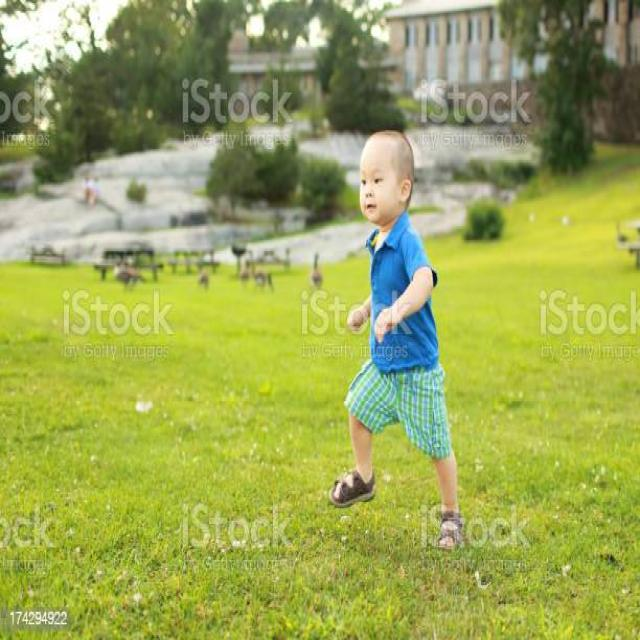Person: (332, 130, 461, 552)
